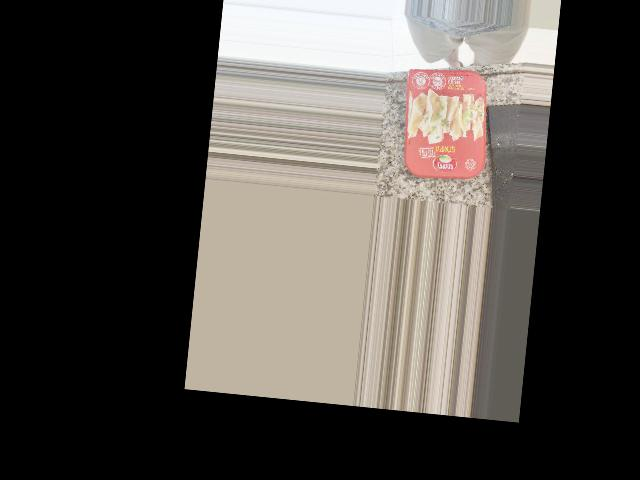cheese: (395, 62, 493, 179)
